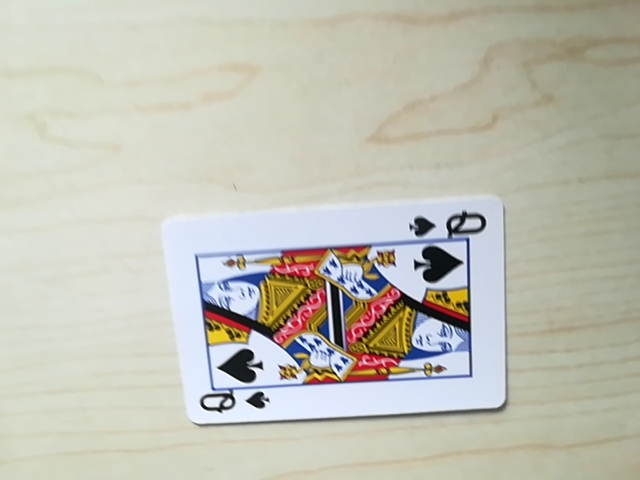ht q: (195, 384, 269, 424), (410, 205, 490, 240)
